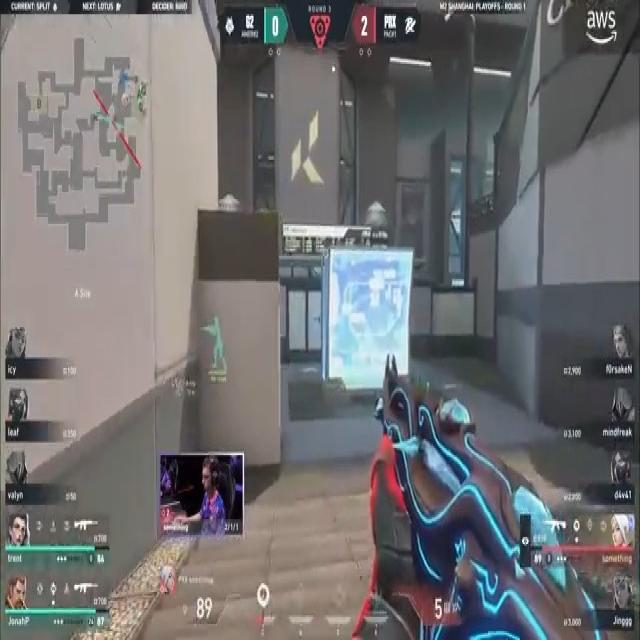ally behind wall: (200, 310, 229, 375)
